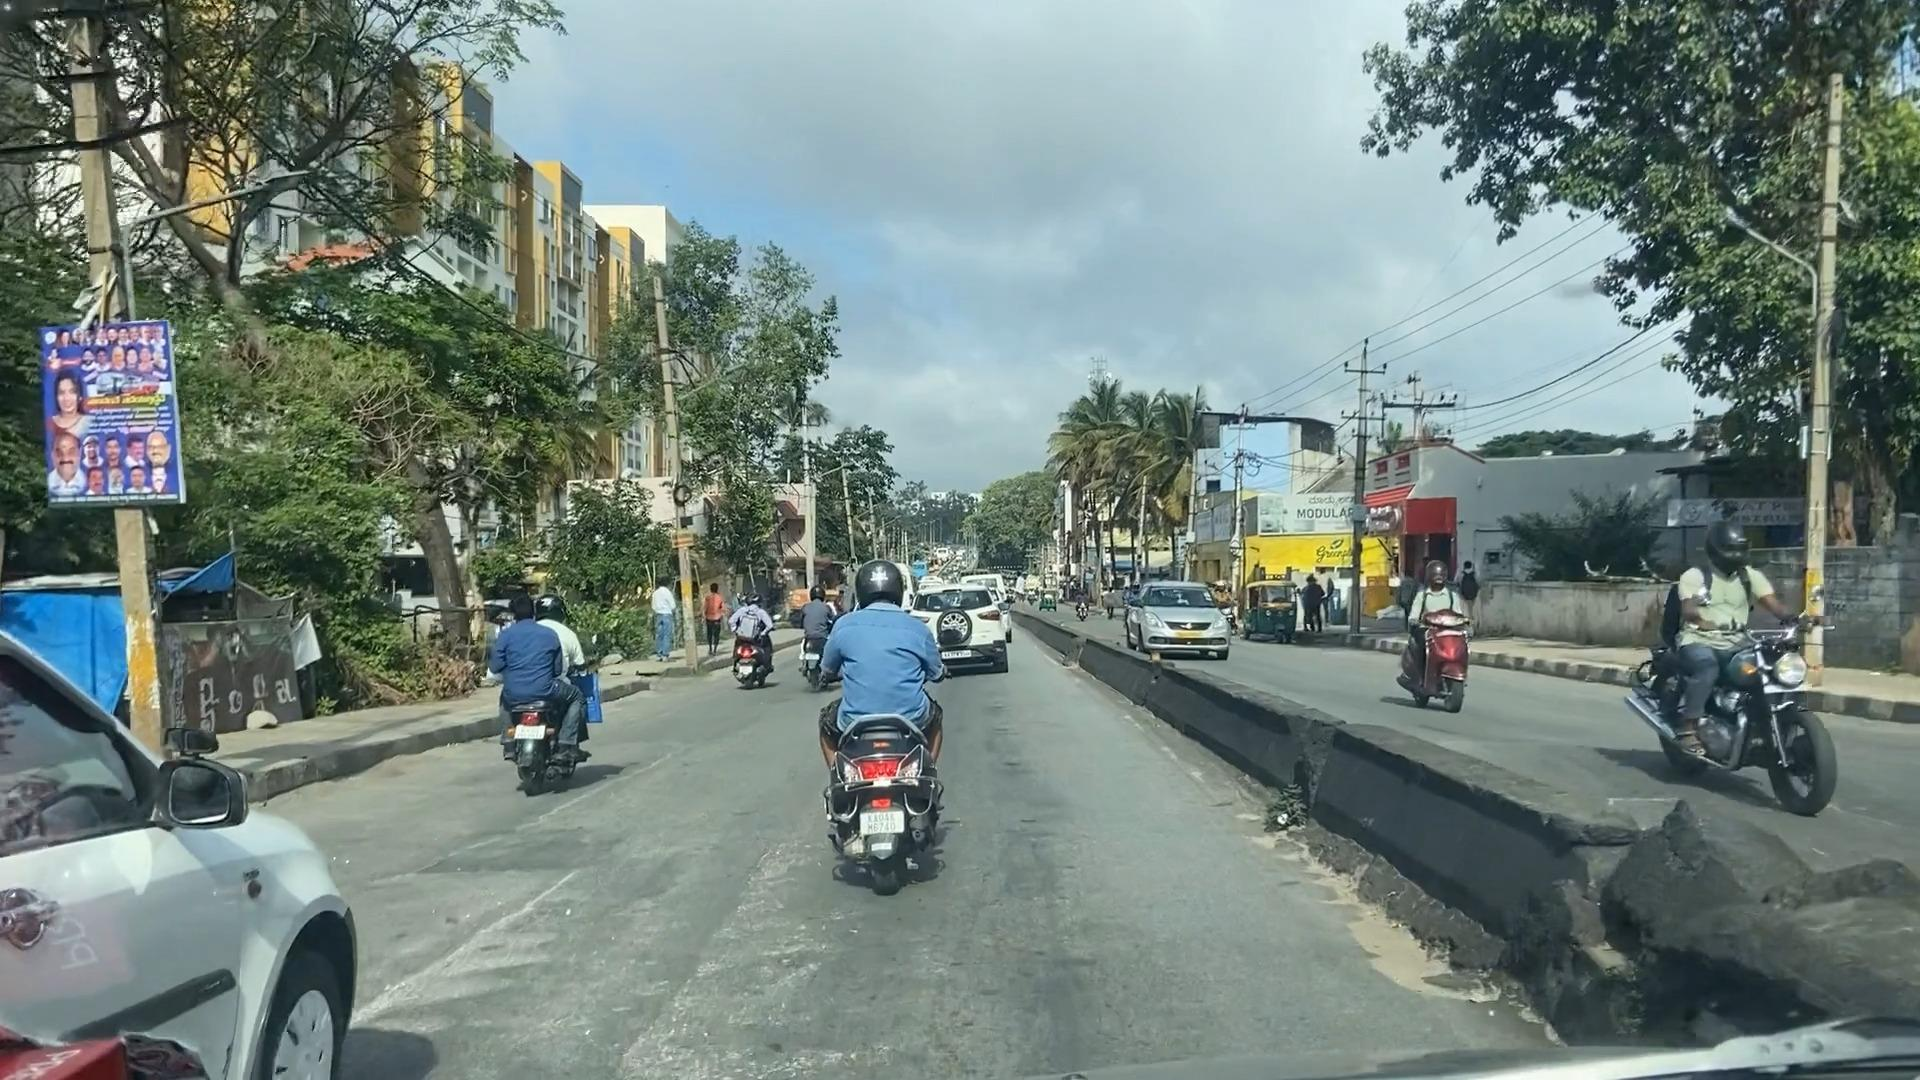LMV: (824, 572, 928, 861), (498, 596, 574, 754), (915, 588, 1006, 676), (735, 587, 764, 679), (654, 584, 675, 667), (704, 584, 720, 654)
RoadDamages: (404, 804, 599, 994)
